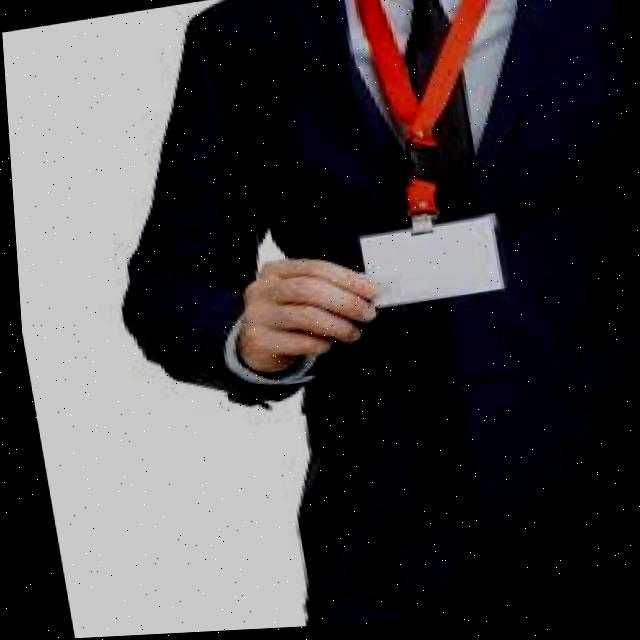id_card: (307, 0, 523, 329)
